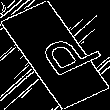P_SW: (17, 26, 93, 84)
